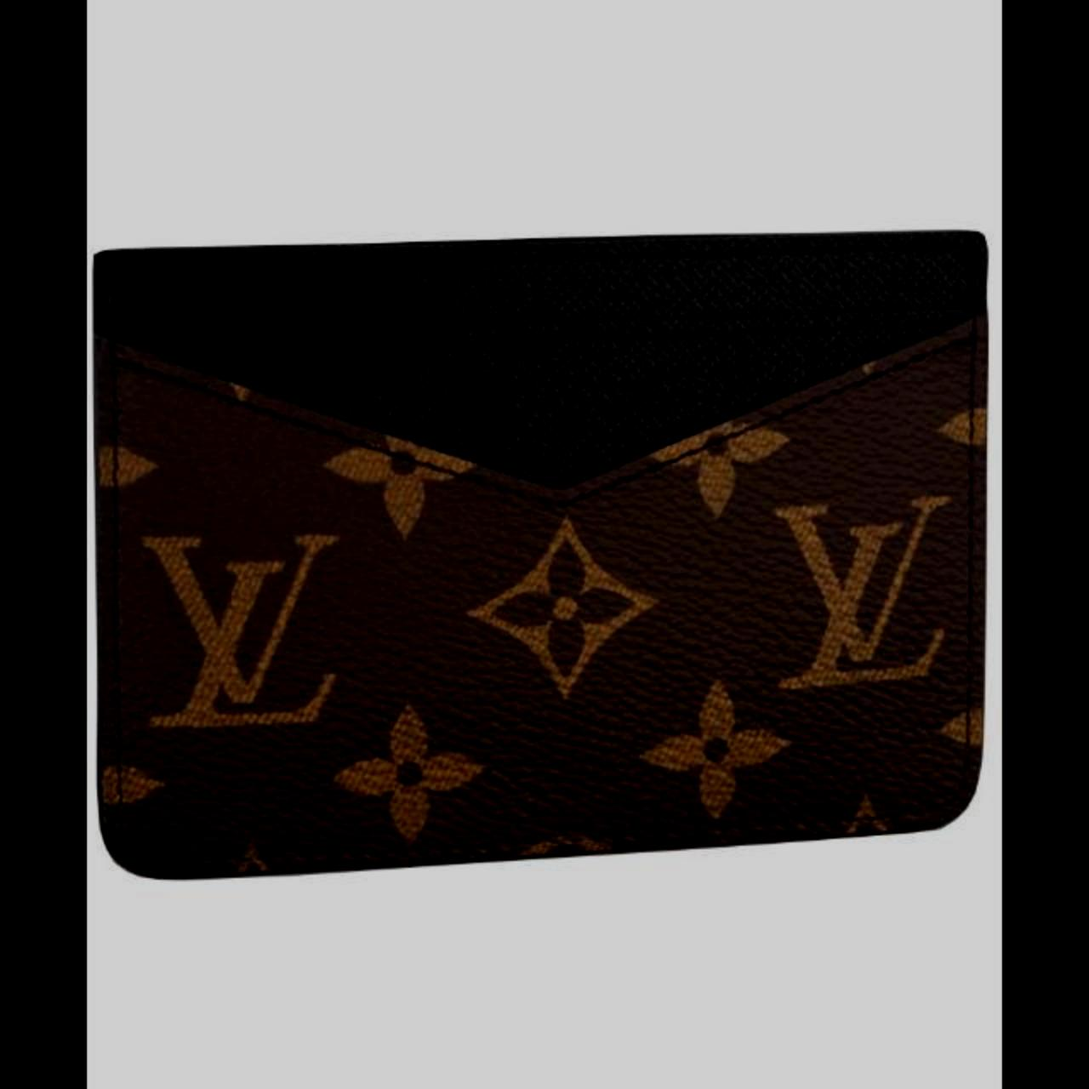wallet: (94, 234, 987, 872)
